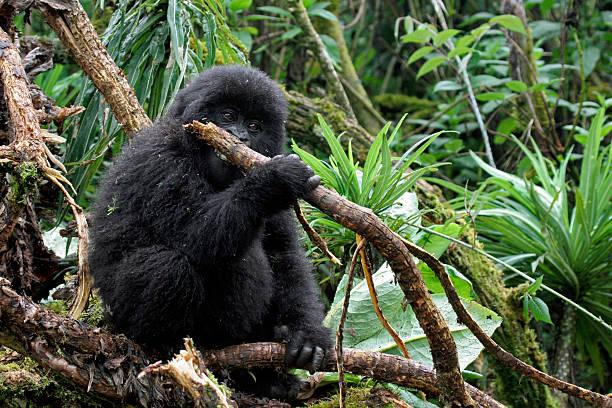goriile_montagne: (84, 59, 333, 338)
